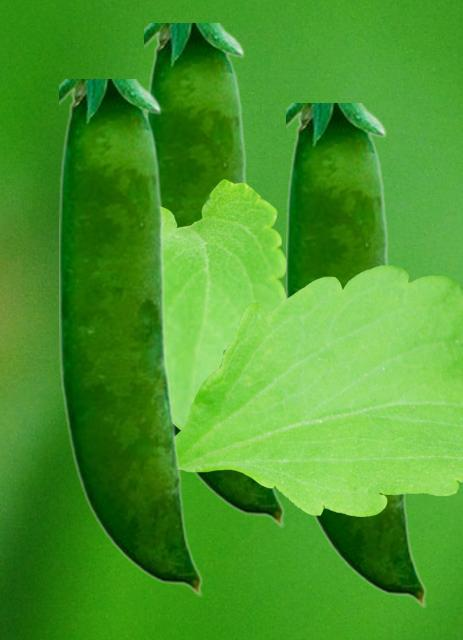pea: (59, 79, 201, 595), (144, 23, 283, 526), (286, 103, 425, 606)
